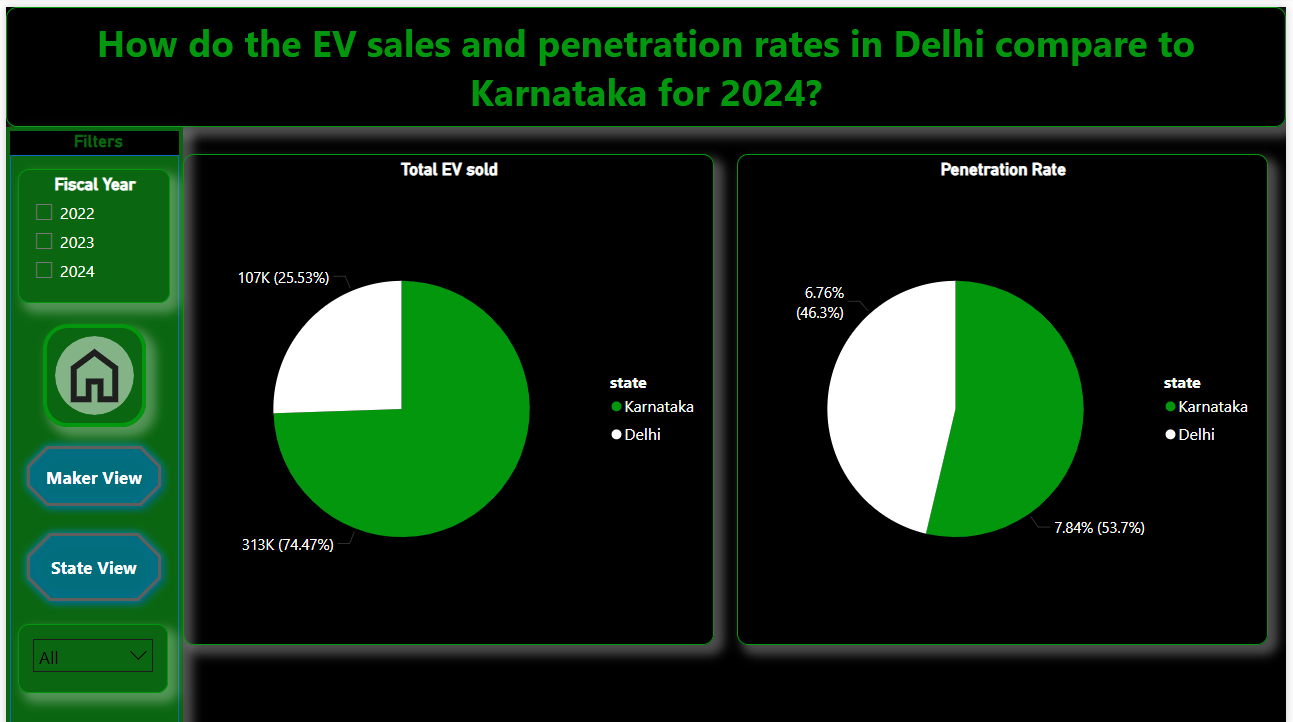

The page's visual inventory and layout, read from the dashboard file:
{"tool":"powerbi","page":{"name":"q-4","canvas":[1280,720],"ordinal":6},"visuals":[{"type":"textbox","box":[0,0,1280,120],"z":0},{"type":"shape","title":"Filters","box":[0,120,176.7,600],"z":1000},{"type":"slicer","title":"Fiscal Year","fields":{"Values":["dim_date.fiscal_year"]},"box":[12.2,162.2,152.2,133.3],"z":2000},{"type":"actionButton","box":[12.2,430,152.2,77.8],"z":3000},{"type":"actionButton","box":[36.7,316.7,103.3,103.3],"z":4000},{"type":"actionButton","box":[12.2,516.7,152.2,86.7],"z":5000},{"type":"pieChart","title":"Total EV sold","fields":{"Category":["electric_vehicle_sales_by_state.state"],"Y":["Sum(electric_vehicle_sales_by_state.electric_vehicles_sold)"]},"box":[176.7,146.7,531.1,491.1],"z":6000},{"type":"pieChart","title":"Penetration Rate ","fields":{"Category":["electric_vehicle_sales_by_state.state"],"Y":["electric_vehicle_sales_by_state.Penetration Rate in State"]},"box":[731.1,146.7,531.1,491.1],"z":7000},{"type":"slicer","fields":{"Values":["electric_vehicle_sales_by_makers.vehicle_category"]},"box":[12.2,616.7,150,68.9],"z":8000}]}

Visuals, with their boxes in screenshot pixels (x1, y1, x2, y2), scaled from the page's 1280x720 canvas onto the 1293x722 screenshot:
textbox: bbox=[0, 0, 1292, 120]
"Filters" shape: bbox=[0, 120, 178, 721]
"Fiscal Year" slicer: bbox=[12, 163, 166, 296]
actionButton: bbox=[12, 431, 166, 509]
actionButton: bbox=[37, 318, 141, 421]
actionButton: bbox=[12, 518, 166, 605]
"Total EV sold" pieChart: bbox=[178, 147, 715, 640]
"Penetration Rate " pieChart: bbox=[739, 147, 1275, 640]
slicer - electric_vehicle_sales_by_makers.vehicle_category: bbox=[12, 618, 164, 688]
